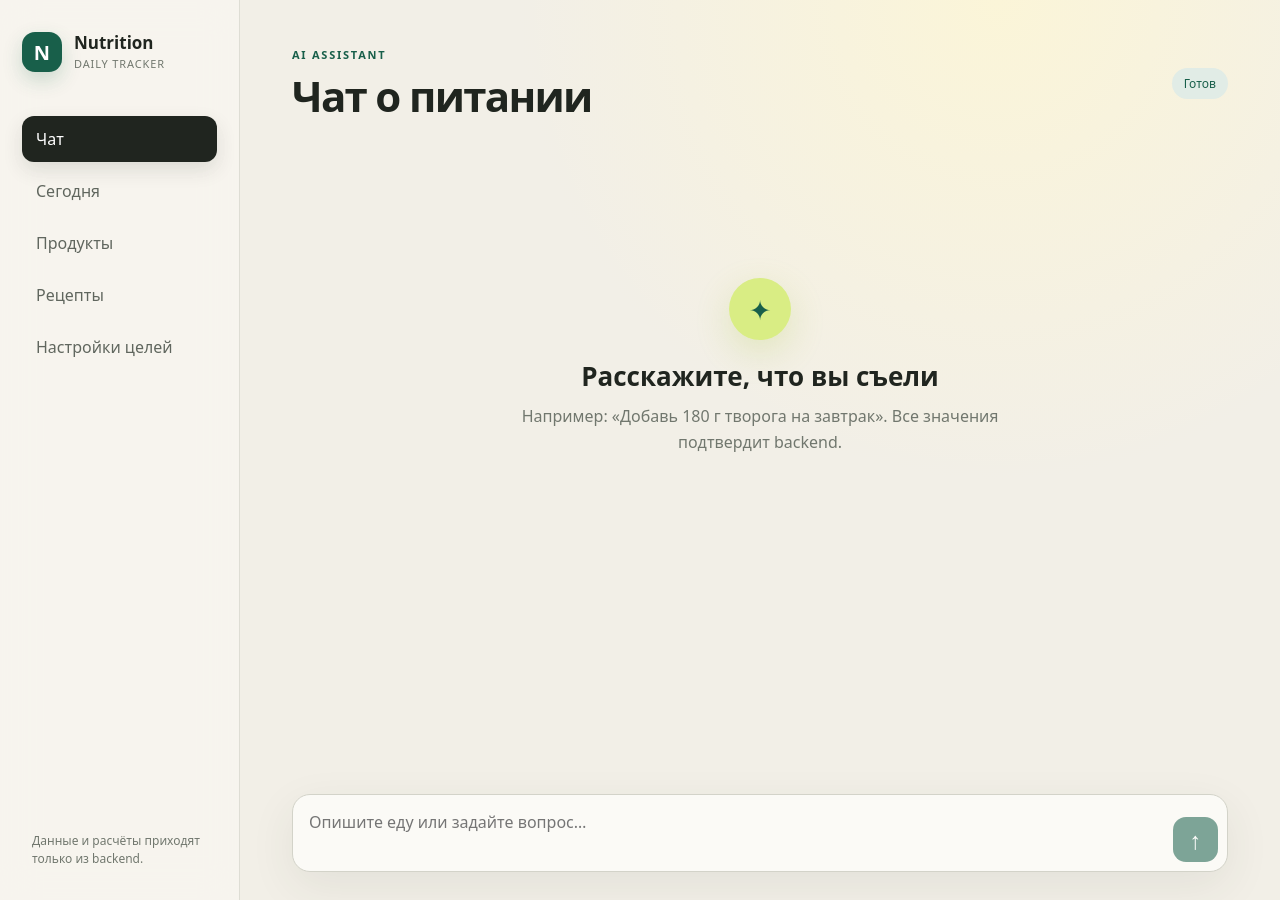
Test: основные пользовательские сценарии › показывает понятную ошибку API
In the text box named "Сообщение": (736, 833) x1=309 y1=804 x2=1163 y2=862, type "Добавь яблоко"
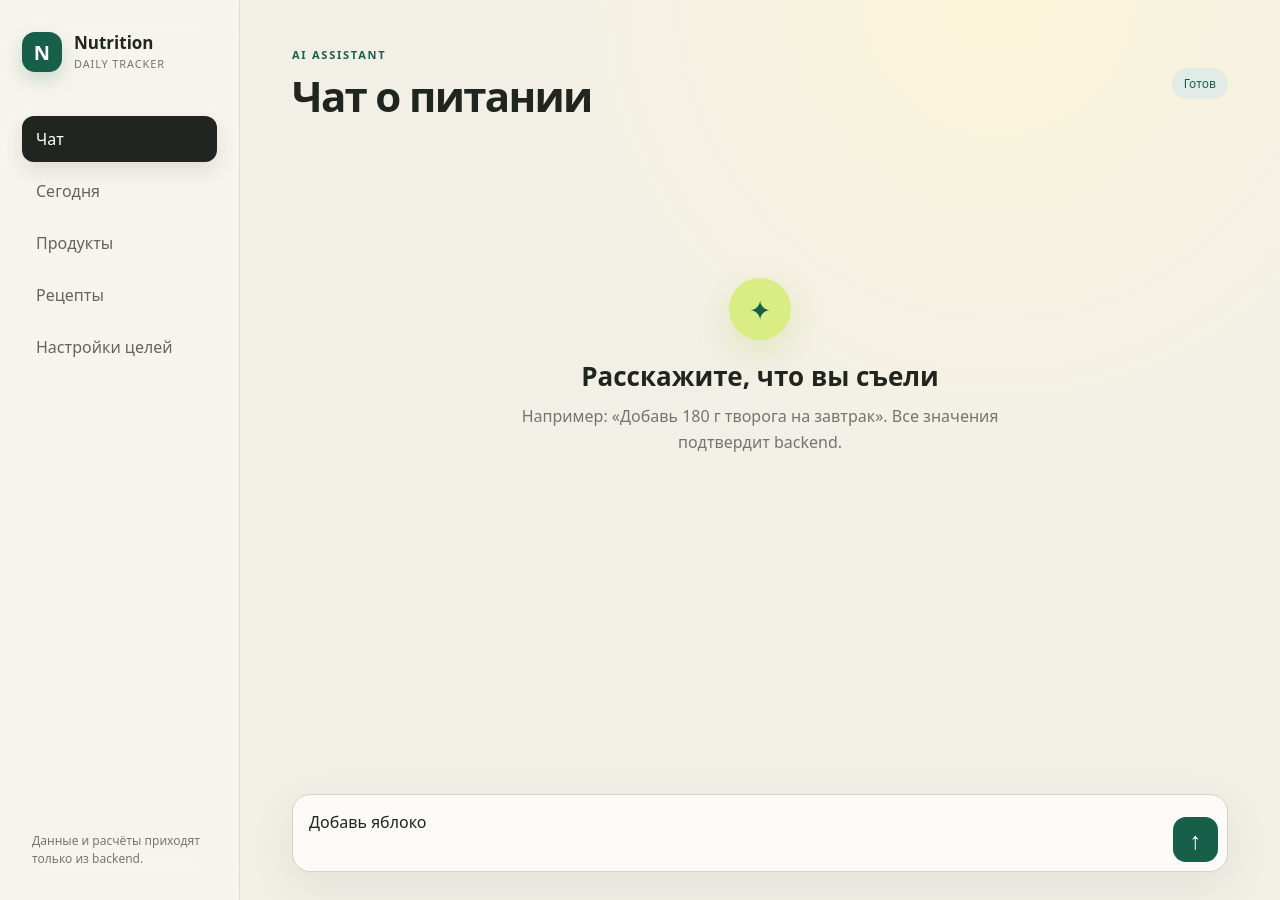
Click the button named "Отправить сообщение": (1196, 840) x1=1173 y1=817 x2=1218 y2=862
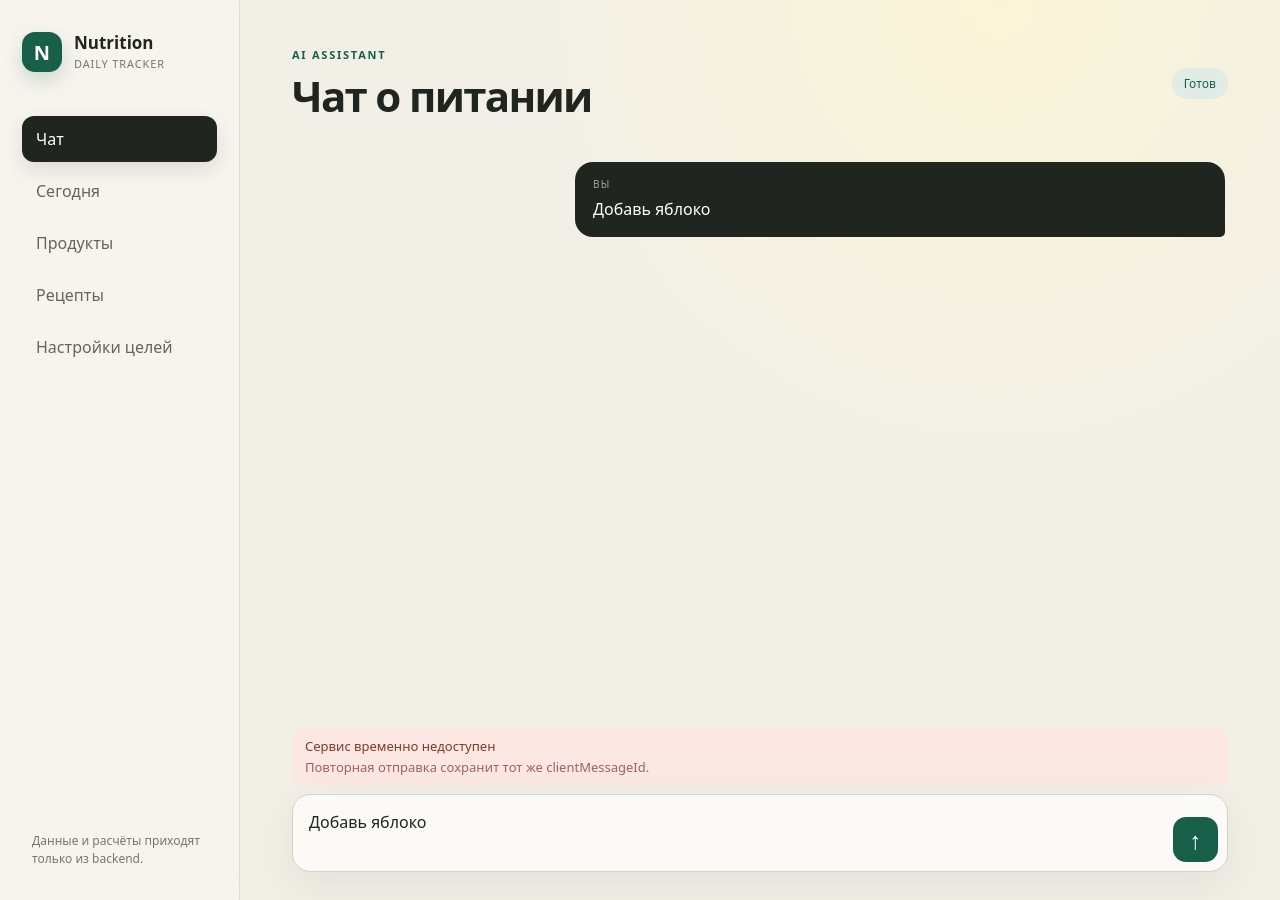
Expected: the message shows "Сервис временно недоступен", x1=305 y1=737 x2=496 y2=755
